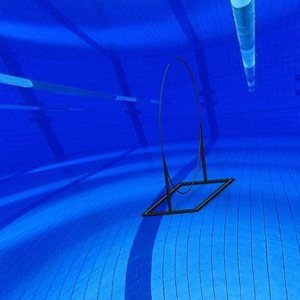circle: (141, 55, 235, 217)
